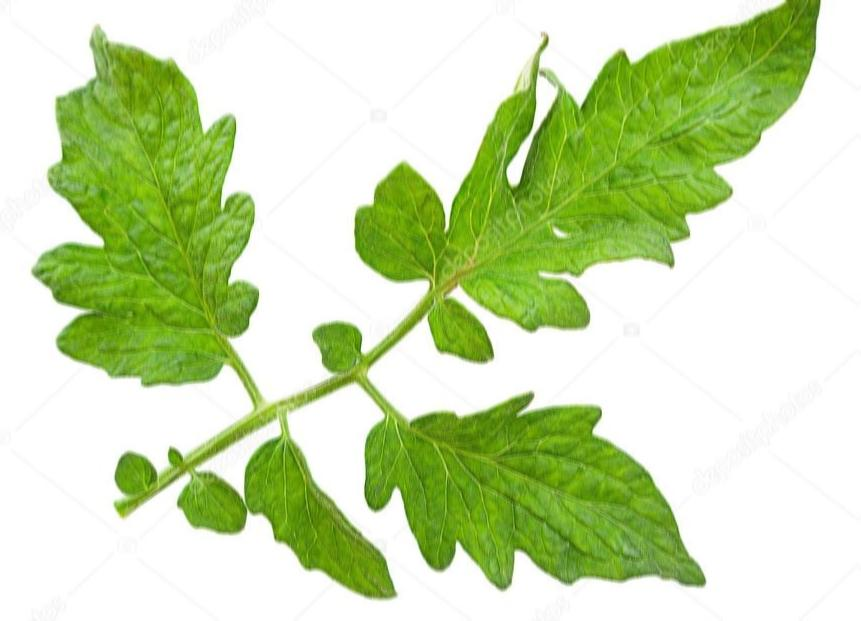Tomato leaf: (323, 0, 861, 352), (18, 25, 282, 382), (364, 405, 755, 599), (242, 417, 405, 609)
